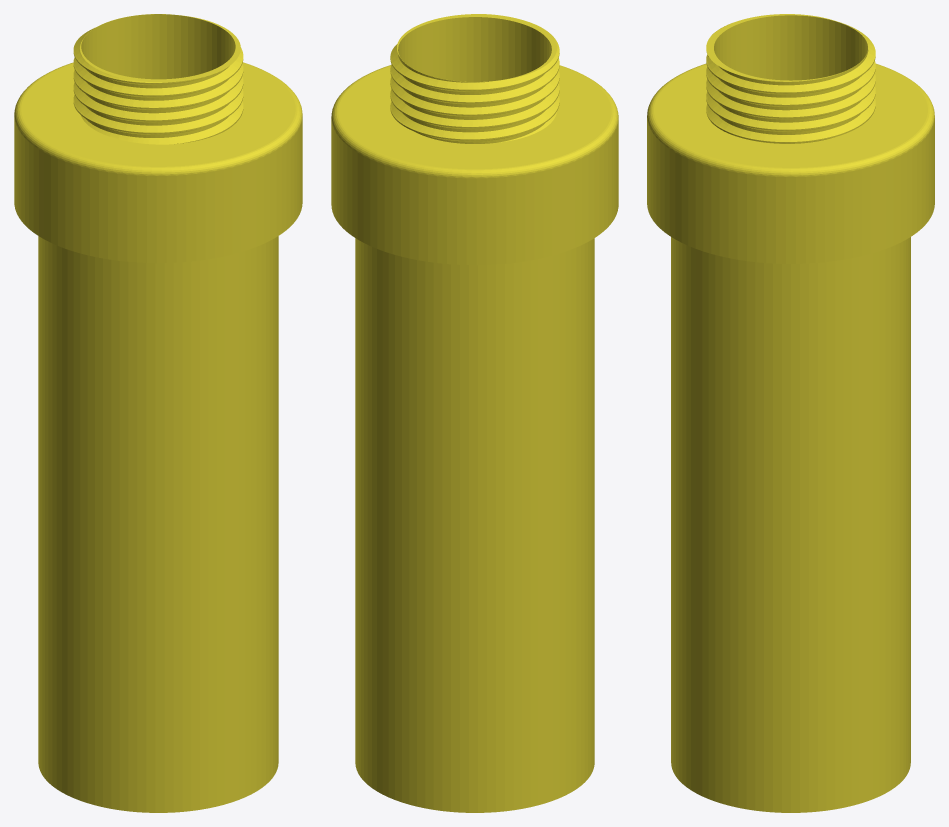
The model's file is corps_produit_06.glb.
3 views of the same model, side by side, from view 1: azimuth 30°, elevation 25°; view 2: azimuth 150°, elevation 25°; view 3: azimuth 270°, elevation 25° (orthographic).
Parts seen in each view (by area): view 1: bouteille prototype V3 corps seul; view 2: bouteille prototype V3 corps seul; view 3: bouteille prototype V3 corps seul.
Part boxes in pixels (x1,y1,x2,y2): bouteille prototype V3 corps seul: (14,14,302,812); bouteille prototype V3 corps seul: (331,14,618,812); bouteille prototype V3 corps seul: (647,14,934,812).
Size of the model in its own units: 83.47 by 229 by 83.48.
